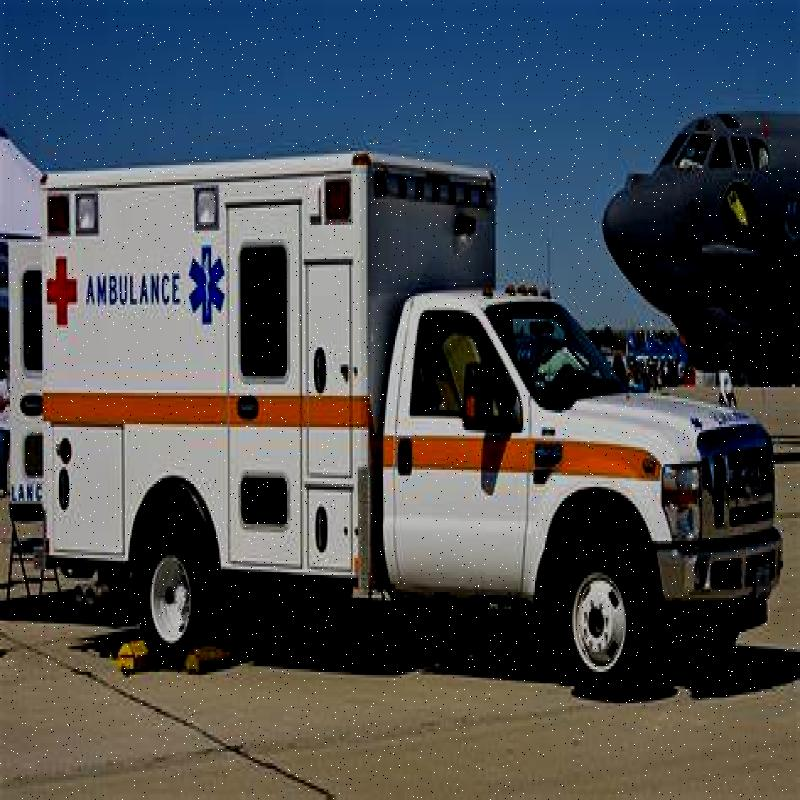AmbulanceSiren: (50, 185, 105, 249), (311, 175, 350, 227), (186, 186, 224, 239)
